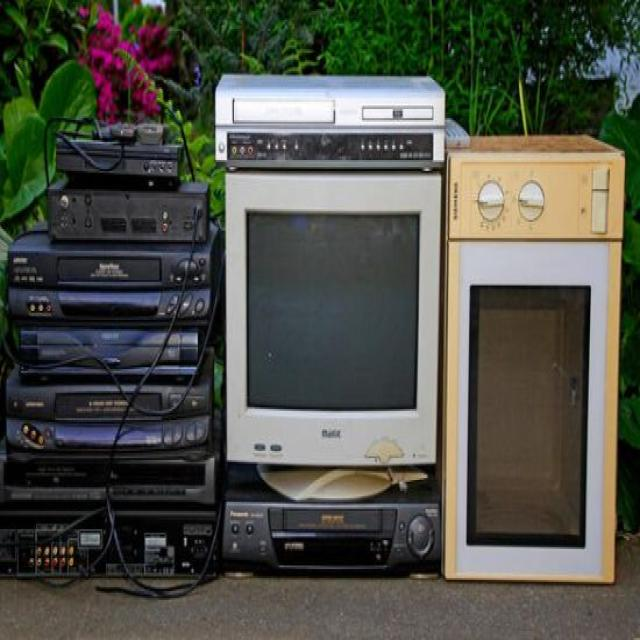electronic: (13, 93, 214, 620), (445, 135, 640, 599), (229, 161, 443, 478)
